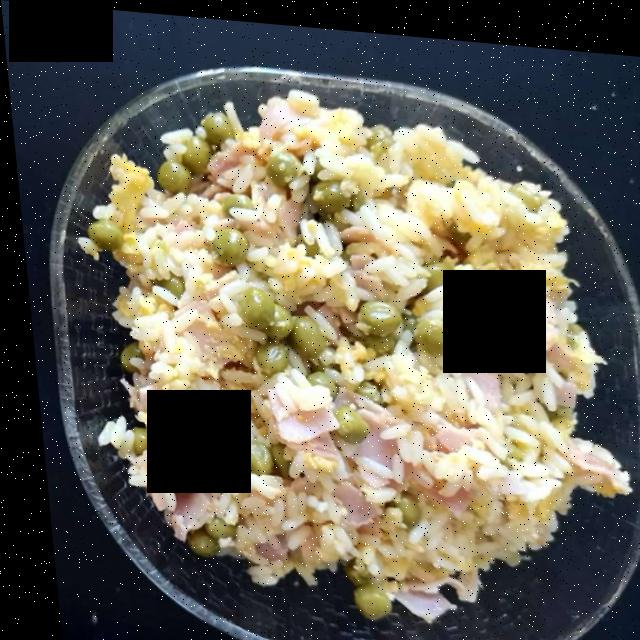peas: (150, 110, 470, 553)
rice: (90, 95, 595, 604)
